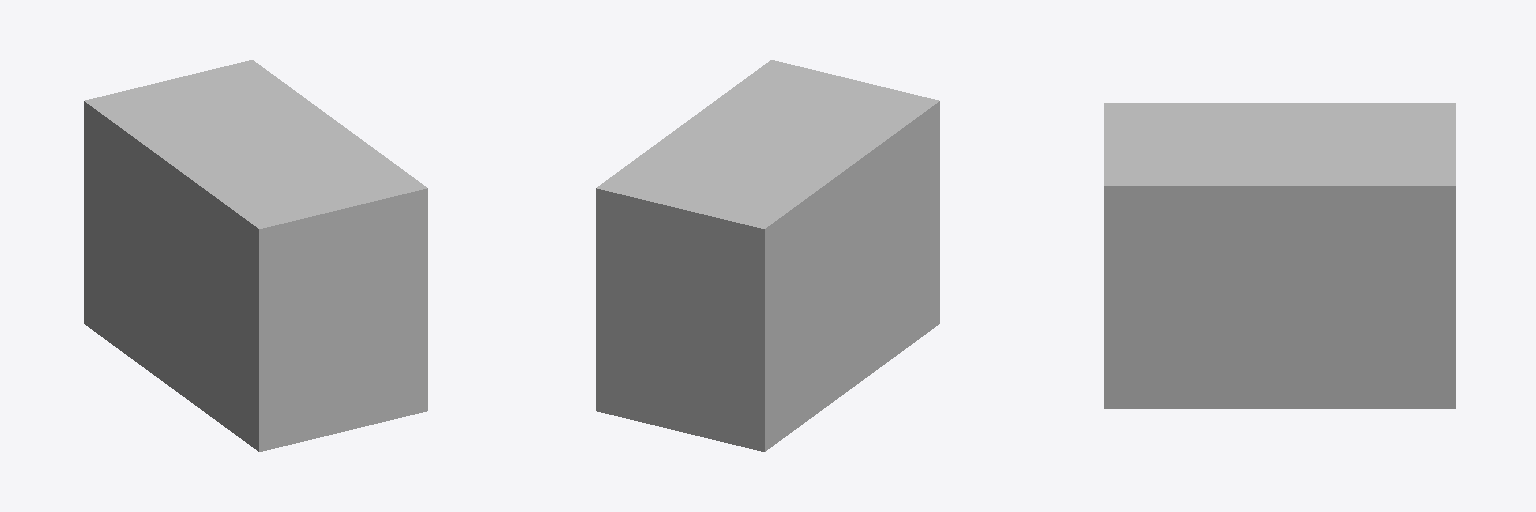
The model's file is mask.obj.
3 views of the same model, side by side, from view 1: azimuth 30°, elevation 25°; view 2: azimuth 150°, elevation 25°; view 3: azimuth 270°, elevation 25° (orthographic).
Parts seen in each view (by area): view 1: Mask; view 2: Mask; view 3: Mask.
Boxes of the visible parts, box(x1,y1,x2,y2) form: Mask: box(84, 60, 427, 451); Mask: box(596, 60, 939, 451); Mask: box(1104, 103, 1455, 408).
Size of the model in its own units: 0.792 by 1 by 1.43.